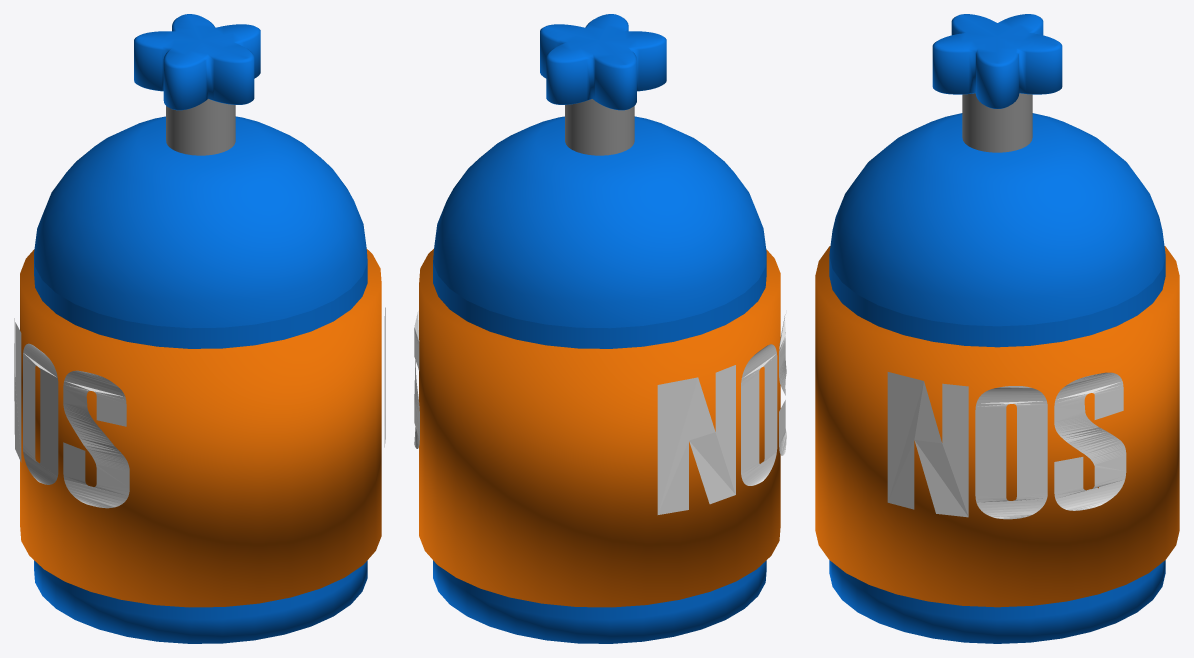
The model's file is nos.glb.
The picture shows the model from 3 angles, left to right: view 1: azimuth 30°, elevation 25°; view 2: azimuth 150°, elevation 25°; view 3: azimuth 270°, elevation 25°; orthographic projection.
Visible parts, largest first — view 1: Cylinder.001, Sphere.001, Cylinder.003, Text, Cylinder, Cylinder.004; view 2: Cylinder.001, Sphere.001, Cylinder.003, Text, Cylinder, Cylinder.004, Text.001; view 3: Cylinder.001, Sphere.001, Text.001, Cylinder.003, Cylinder, Cylinder.004.
Boxes of the visible parts, bbox=[...] form: Cylinder.001: bbox=[20, 249, 381, 607]; Sphere.001: bbox=[34, 116, 367, 328]; Cylinder.003: bbox=[34, 255, 367, 643]; Text: bbox=[14, 318, 129, 508]; Cylinder: bbox=[134, 14, 260, 110]; Cylinder.004: bbox=[166, 99, 235, 155]; Cylinder.001: bbox=[419, 249, 780, 607]; Sphere.001: bbox=[433, 116, 766, 328]; Cylinder.003: bbox=[433, 257, 766, 643]; Text: bbox=[657, 314, 786, 514]; Cylinder: bbox=[540, 14, 666, 110]; Cylinder.004: bbox=[565, 99, 634, 155]; Text.001: bbox=[414, 311, 419, 448]; Cylinder.001: bbox=[815, 246, 1179, 607]; Sphere.001: bbox=[829, 113, 1165, 326]; Text.001: bbox=[887, 372, 1126, 519]; Cylinder.003: bbox=[829, 256, 1165, 643]; Cylinder: bbox=[932, 14, 1062, 108]; Cylinder.004: bbox=[962, 93, 1032, 152].
Bounding box in the file's own units: 2.69 × 4.22 × 2.6.
